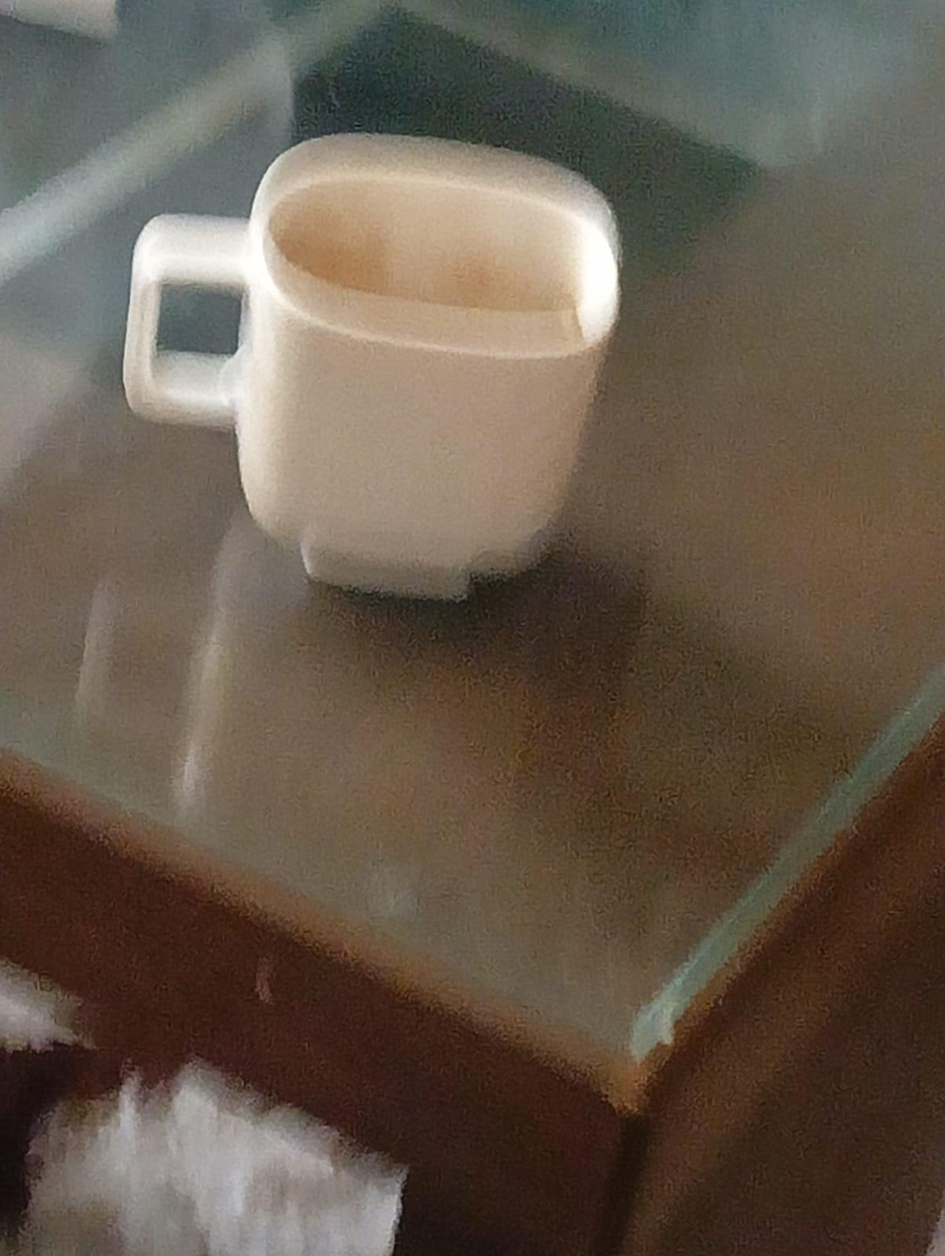cup: (123, 133, 619, 597), (247, 155, 616, 357)
